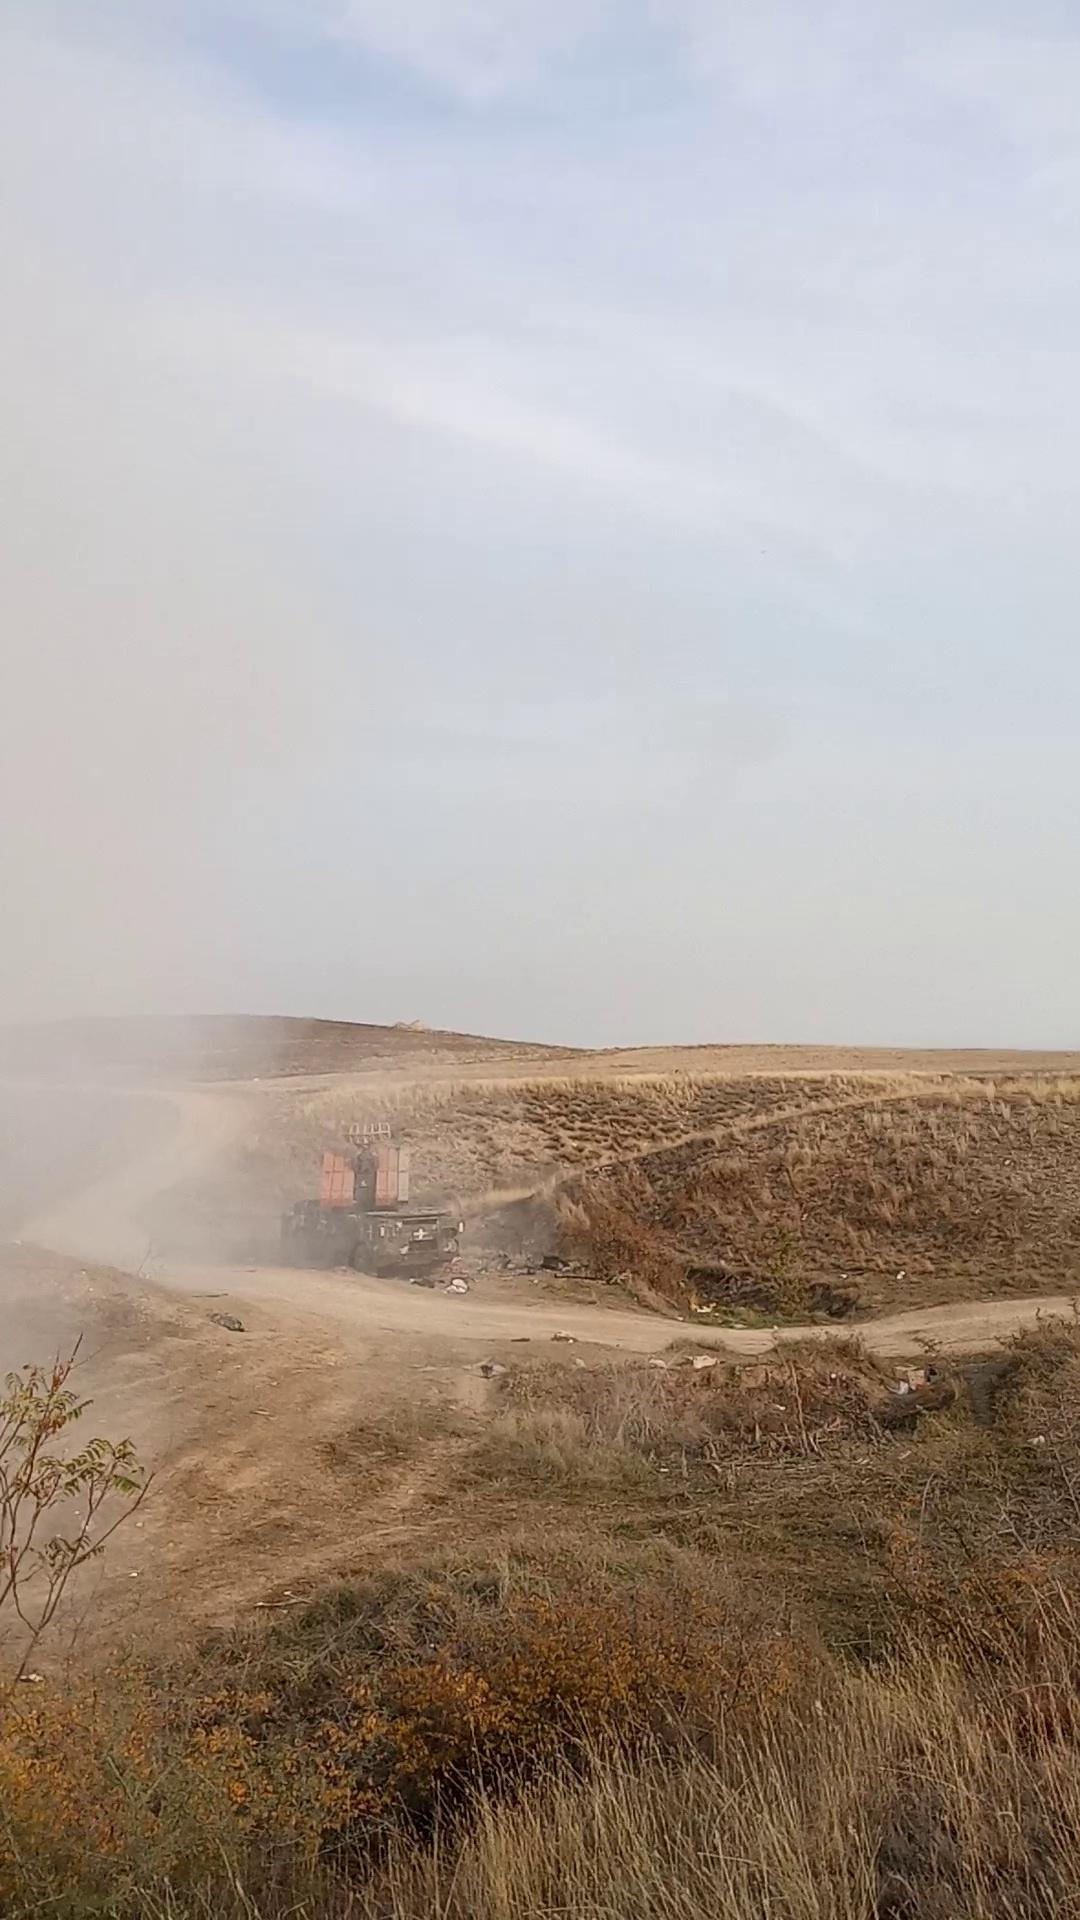MIL_SAM_TEL: (281, 1114, 471, 1288)
